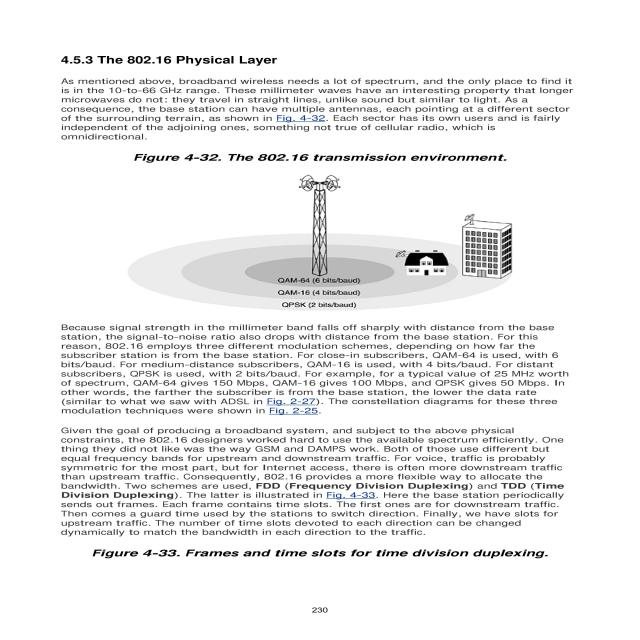diagram: (59, 144, 607, 314)
